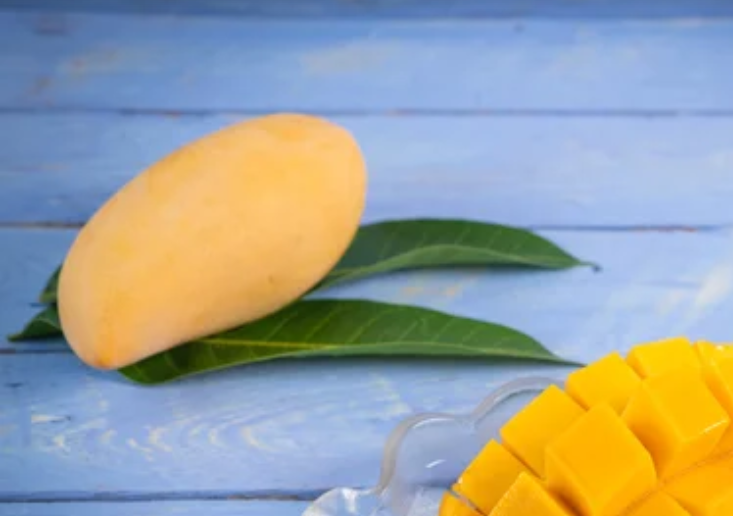mango: (58, 111, 367, 373)
